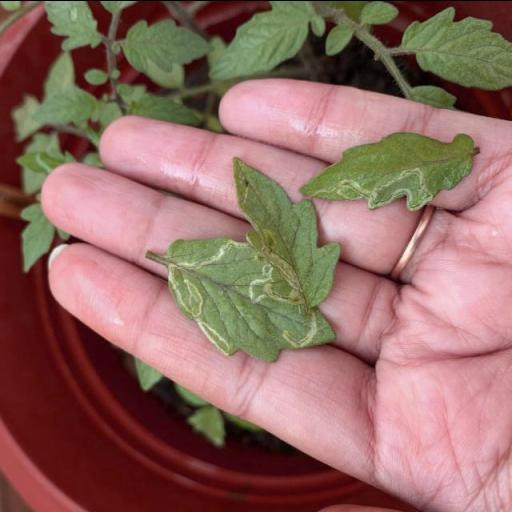Healthy: (208, 0, 326, 83), (400, 6, 512, 92)
Leaf Miner: (162, 236, 338, 362), (302, 128, 476, 210)
